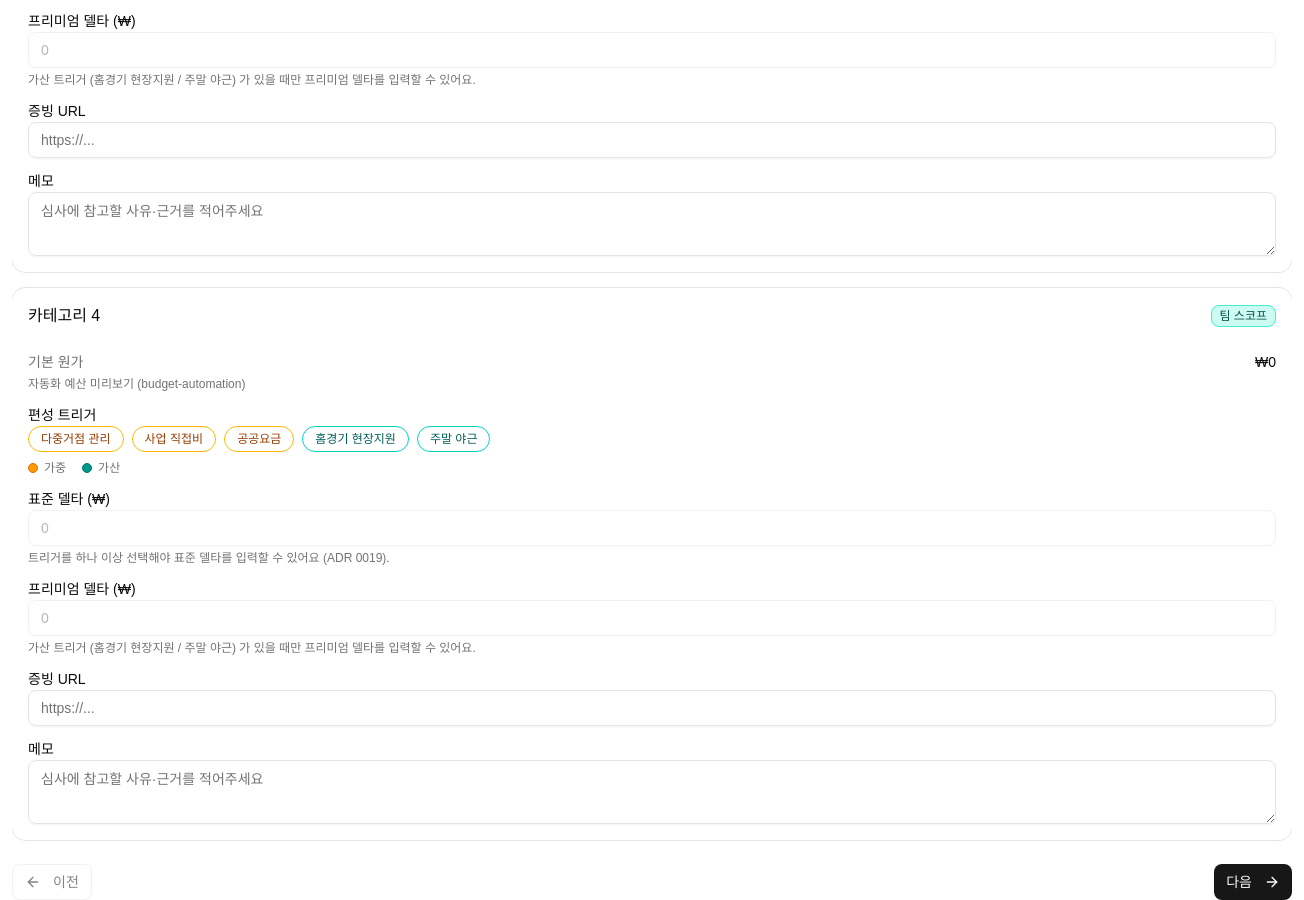
Scenario: BudgetPlanWizard pagination › 다음 → 마지막 페이지에서 제출 버튼 노출
(page scrolled)
Click the button with test id "wizard-next". click: (1253, 882)
box: [1214, 864, 1292, 899]
(page scrolled)
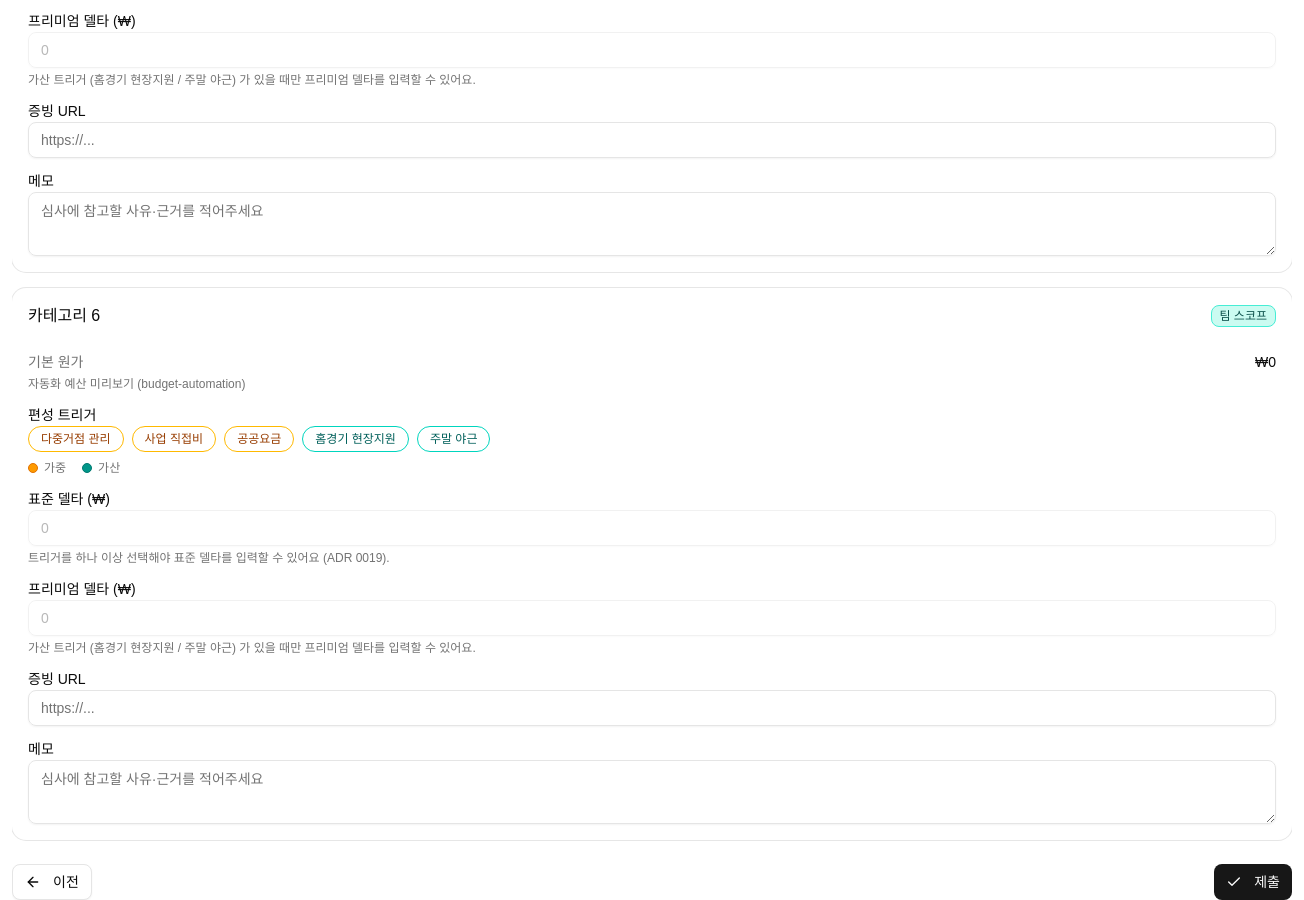
Check: the button with test id "wizard-submit" is shown, box [1214, 864, 1292, 899]
Check: the text "카테고리 6" is shown, box [28, 307, 100, 324]
